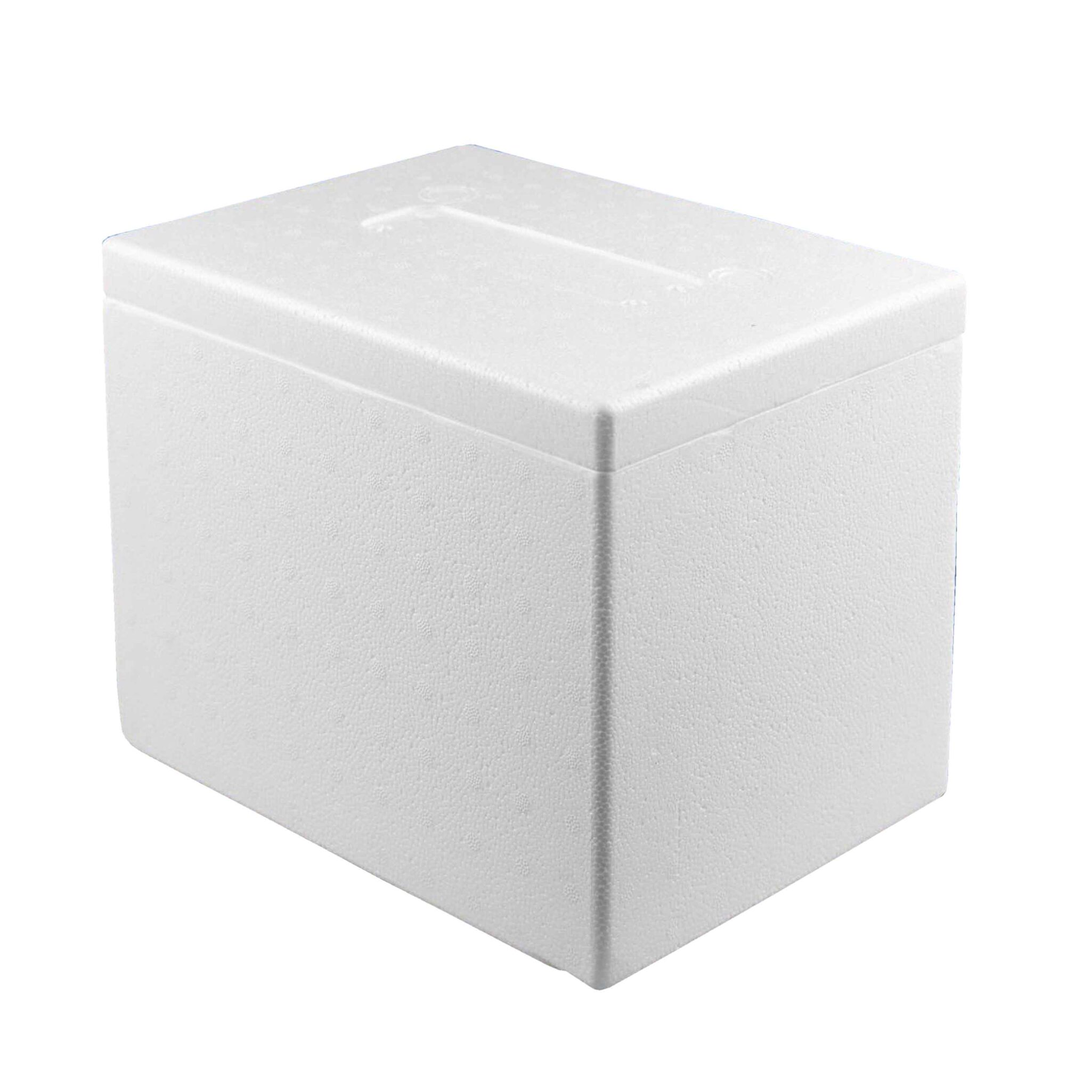Boxes: (103, 146, 963, 987)
